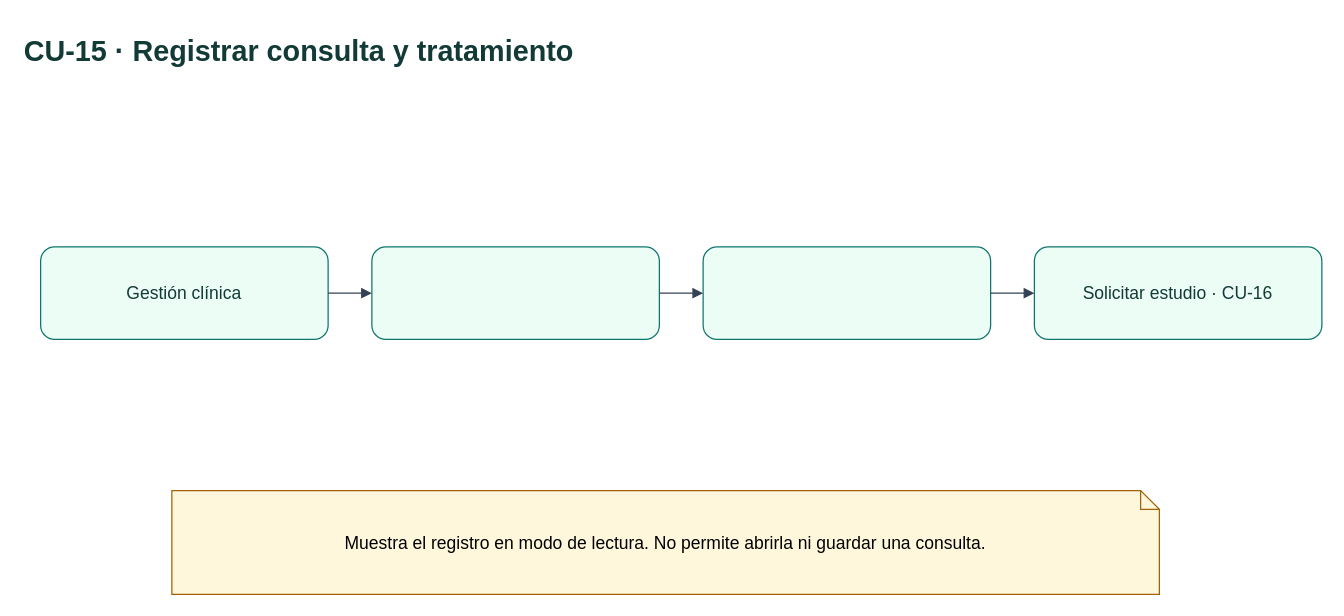
The diagram is 1344 pixels wide and 616 high, and some of its shapes have lost their labels. The shapes that lost their labels are listed below. From the top down, each one's box as (x1, y1, x2, y2) in pixels, then its label:
(371, 246, 659, 339): Consultas médicas
(702, 246, 991, 339): Detalle o registro de consulta
